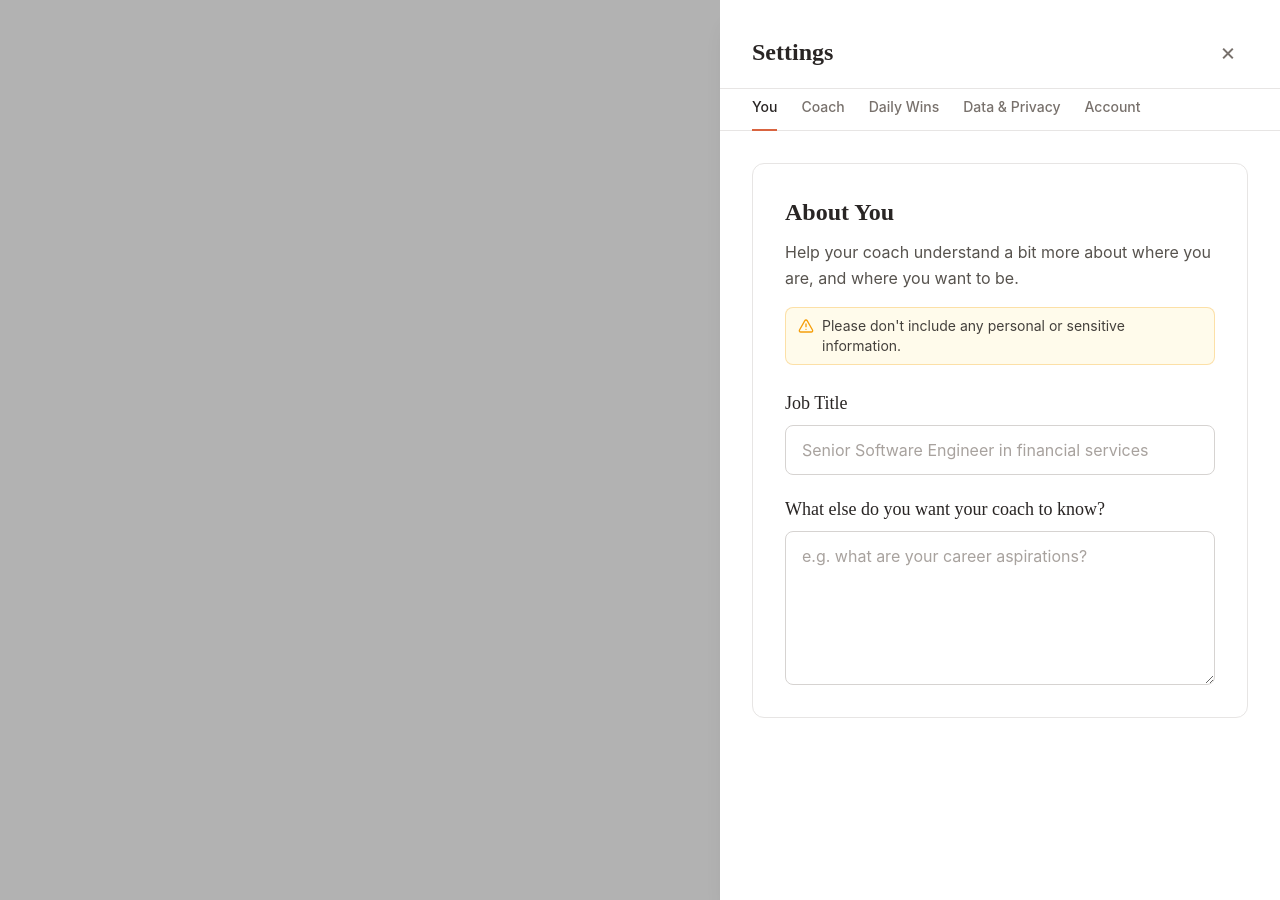
Test case: SettingsDrawer › clicking Coach tab shows CoachingStyleCard content
Click the tab "Coach" at (823, 110), box [801, 89, 845, 131]
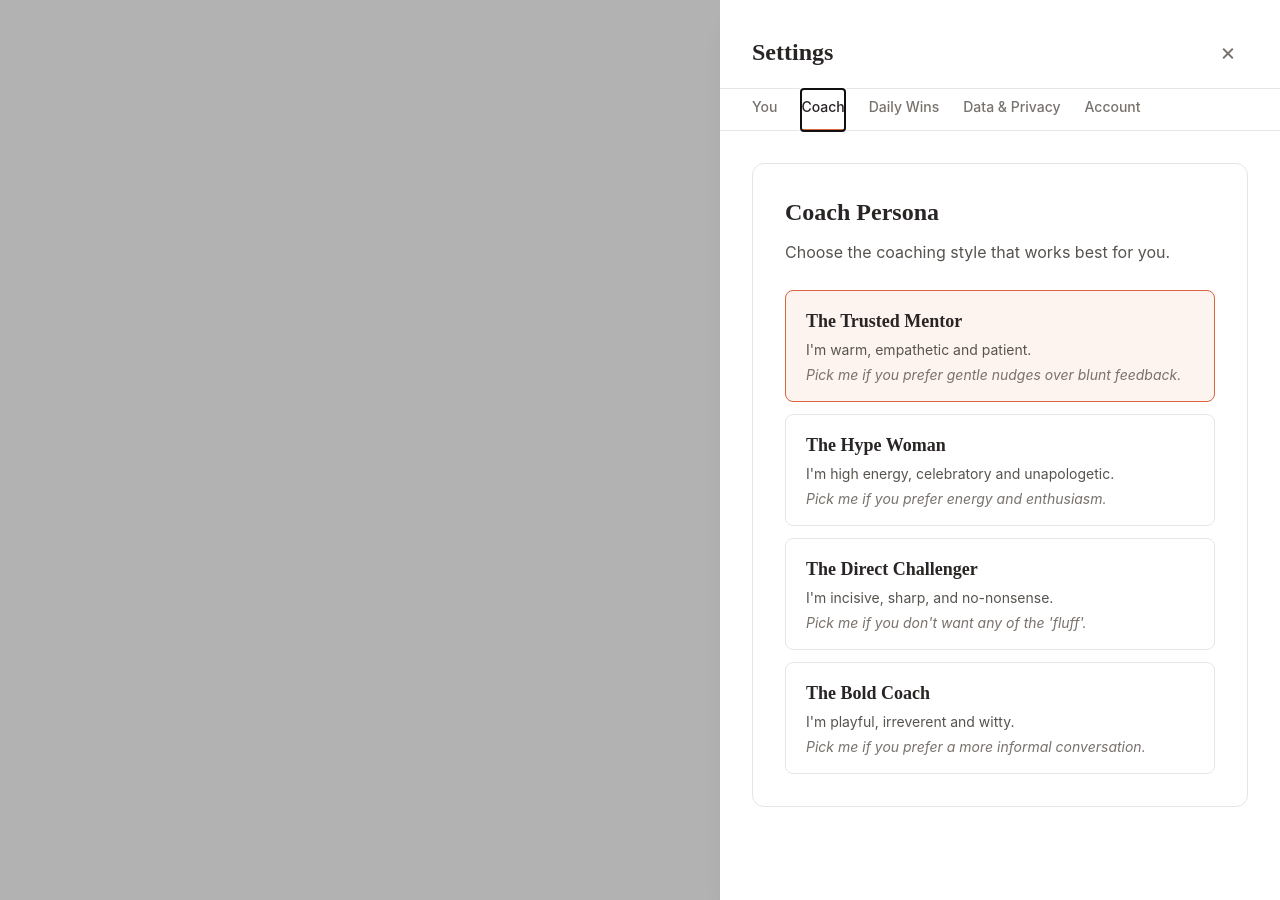
Now the element named "coach persona" is shown, box [785, 290, 1215, 774]
